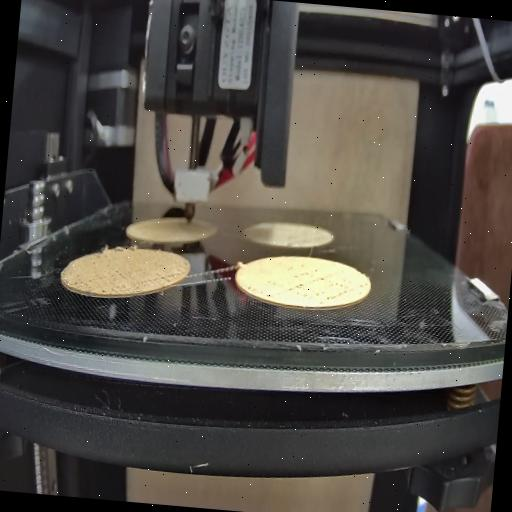under_extrusion: (286, 264, 354, 306), (72, 260, 132, 294), (148, 267, 182, 290), (246, 278, 272, 303)
